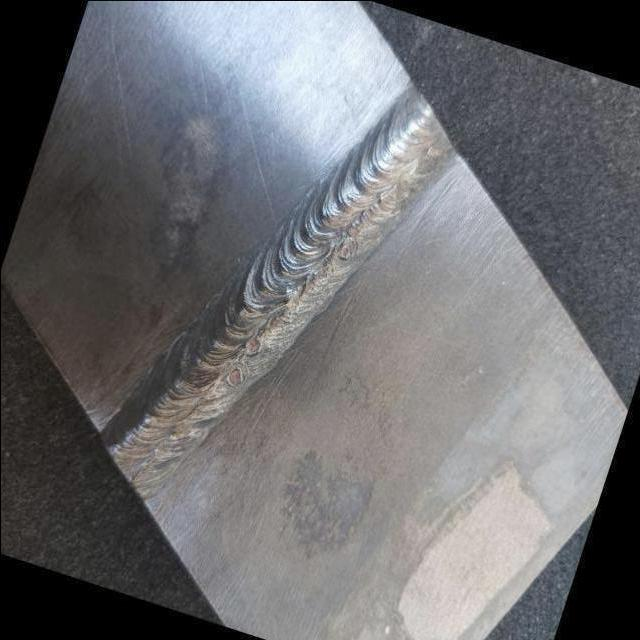defect: (223, 364, 247, 388), (243, 332, 265, 357), (339, 236, 357, 262), (312, 263, 330, 285), (281, 304, 297, 323)
